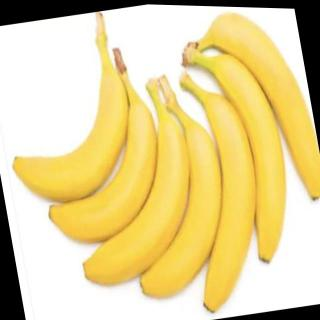banana: (56, 103, 209, 292), (164, 84, 280, 318), (112, 113, 242, 305), (206, 5, 320, 212), (30, 92, 175, 254), (0, 58, 144, 212), (208, 45, 302, 267)
